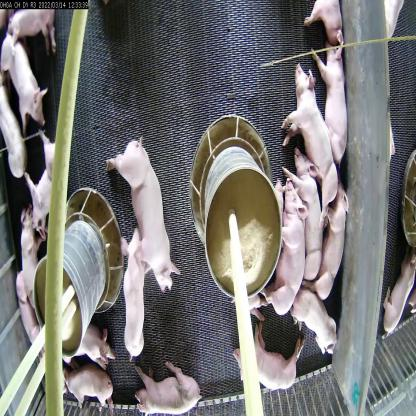Pig: (103, 122, 179, 302), (278, 50, 340, 210), (284, 150, 322, 283), (240, 325, 304, 402), (267, 170, 301, 314), (316, 180, 358, 292), (292, 273, 337, 372), (318, 43, 353, 166), (19, 119, 61, 218), (119, 206, 148, 346), (137, 360, 195, 416), (5, 32, 34, 134), (20, 205, 38, 312), (68, 362, 108, 404)
